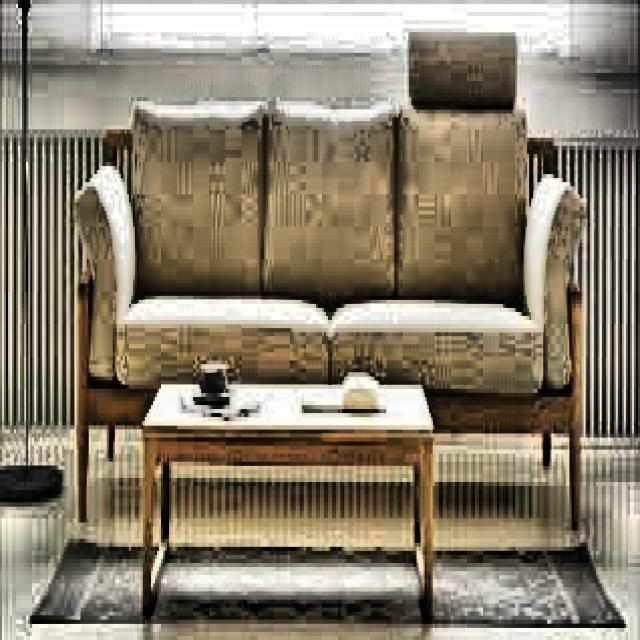sofa: (50, 29, 592, 414)
